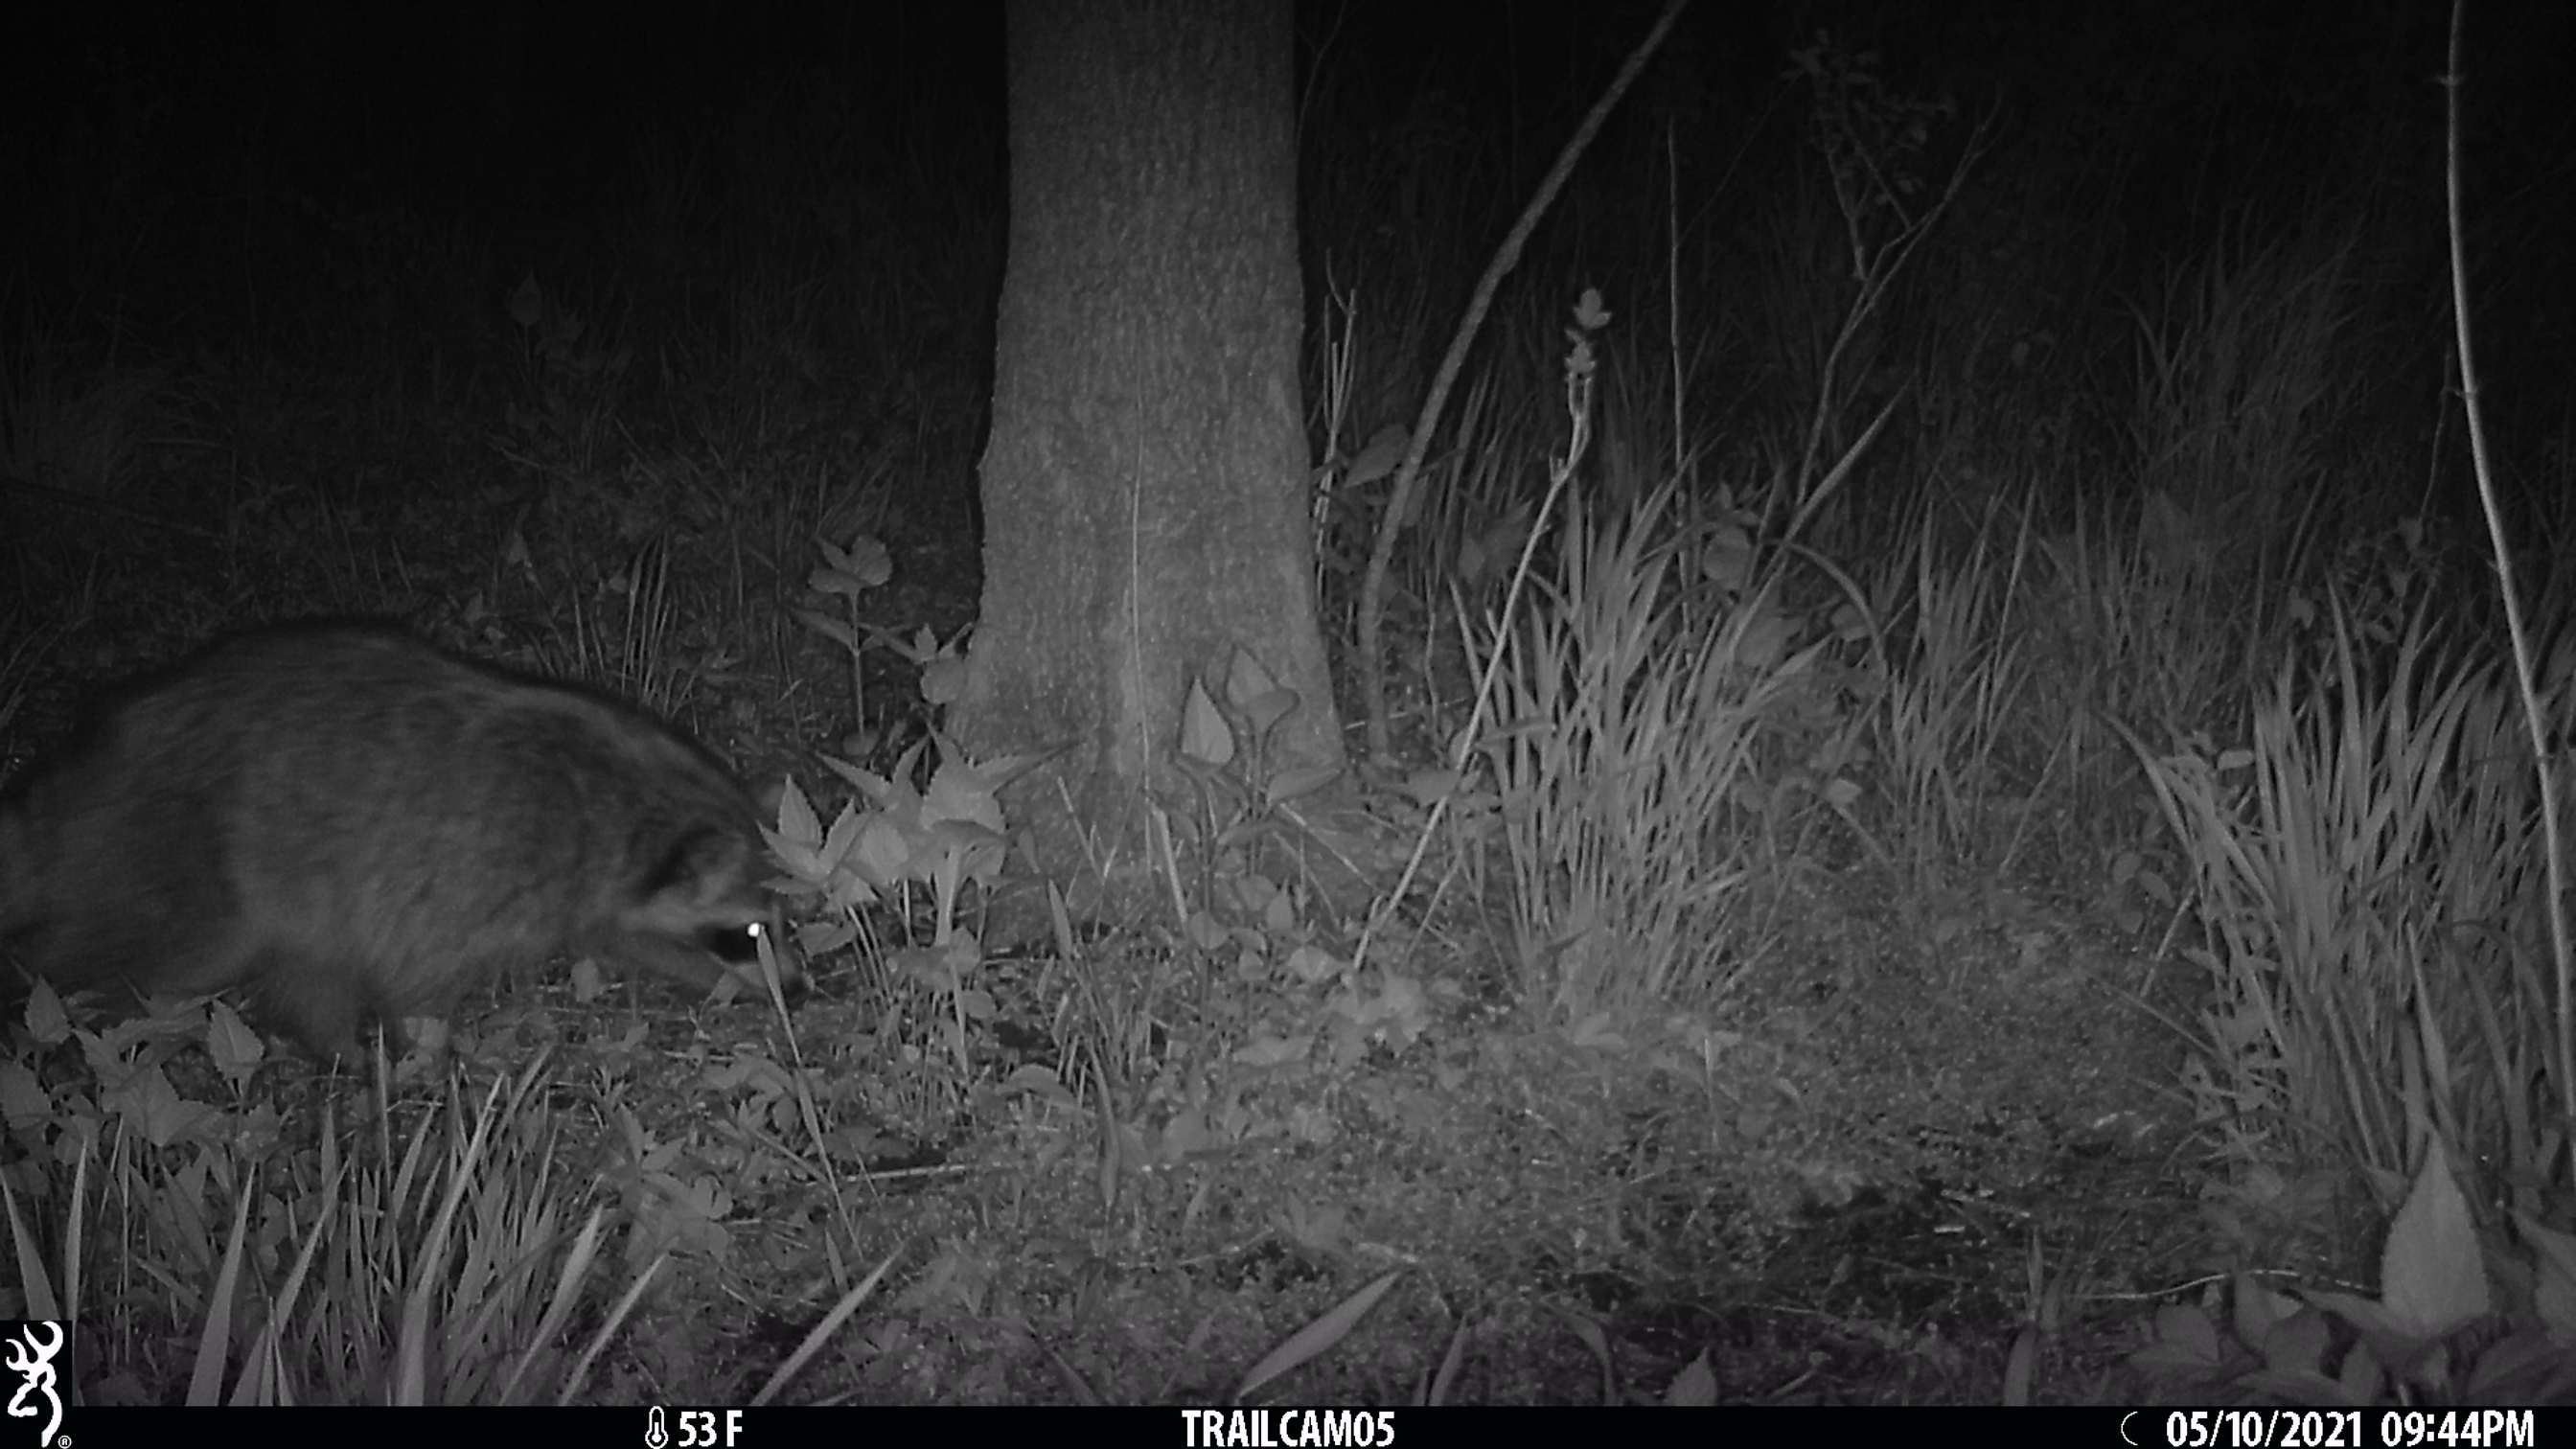Raccoon: (2, 607, 809, 1067)
